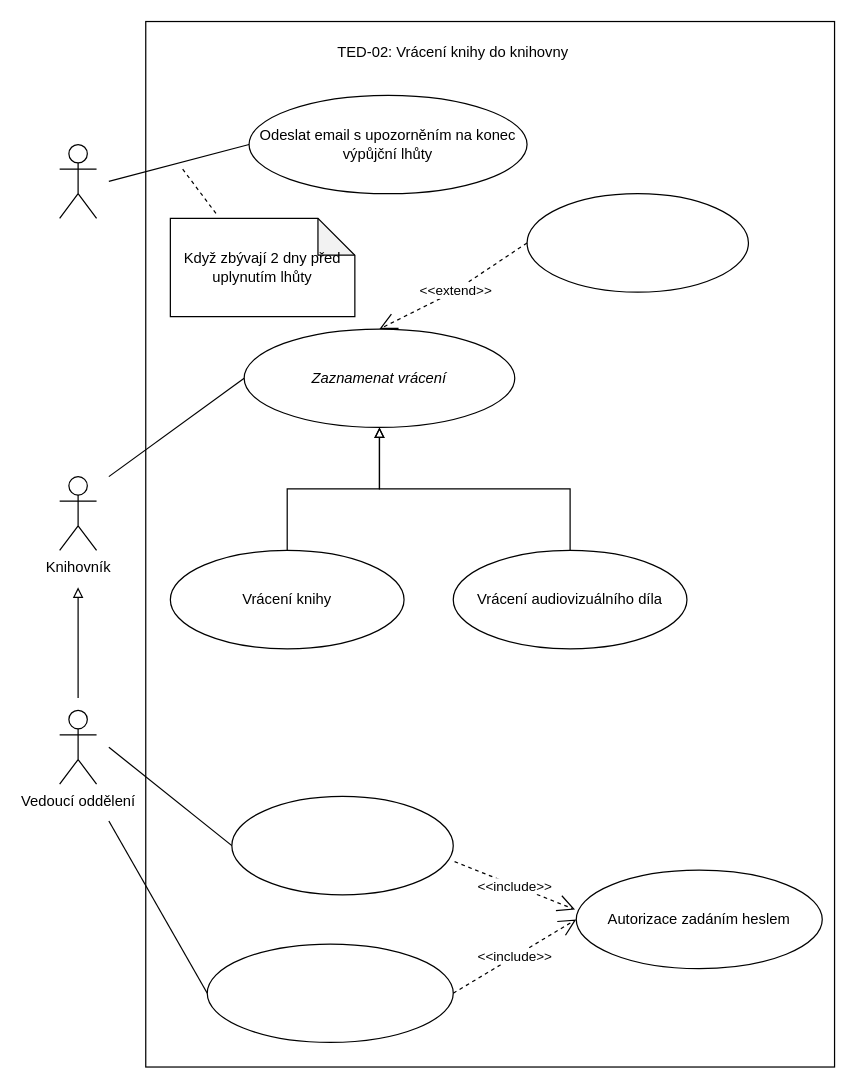
Image size: 856x1089. Some labels were removed from this diagram. Here are the shapes that lost their labels. From the top down, the box of each, then its label:
(58, 143, 97, 218): Čas
(526, 192, 748, 292): TED-03: Uložit pokutu
(231, 795, 453, 895): Anulovat pokutu
(206, 943, 453, 1042): Prodloužit výpůjčku po termínu
